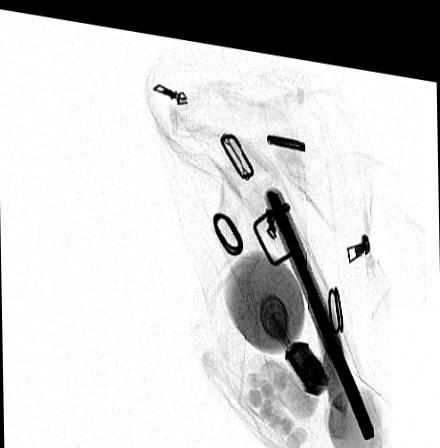Pliers: (262, 178, 375, 424)
